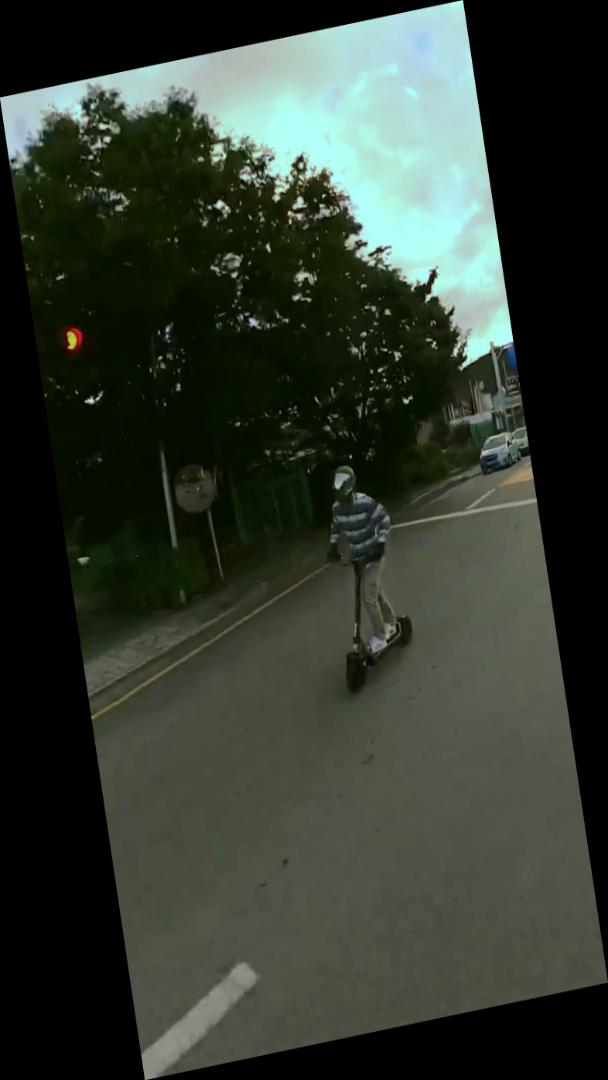helmet: (309, 454, 422, 699)
